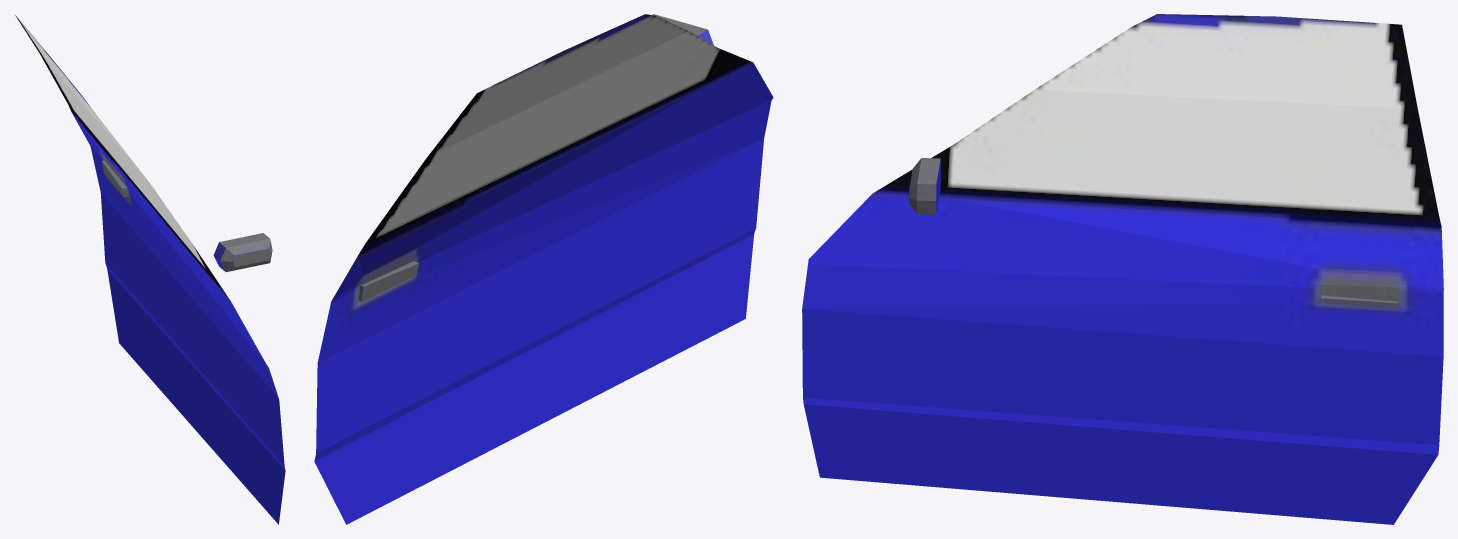
Rendered from leftdoor2.obj.
3 views of the same model, side by side, from view 1: azimuth 30°, elevation 25°; view 2: azimuth 150°, elevation 25°; view 3: azimuth 270°, elevation 25° (orthographic). The views are drawn at different scales.
Parts seen in each view (by area): view 1: leftdoor; view 2: leftdoor; view 3: leftdoor.
Boxes of the visible parts, x1=… form: leftdoor: x1=15, y1=15, x2=285, y2=524; leftdoor: x1=314, y1=14, x2=773, y2=524; leftdoor: x1=802, y1=14, x2=1443, y2=524.
Size of the model in its own units: 0.2837 by 0.7008 by 0.9294.
